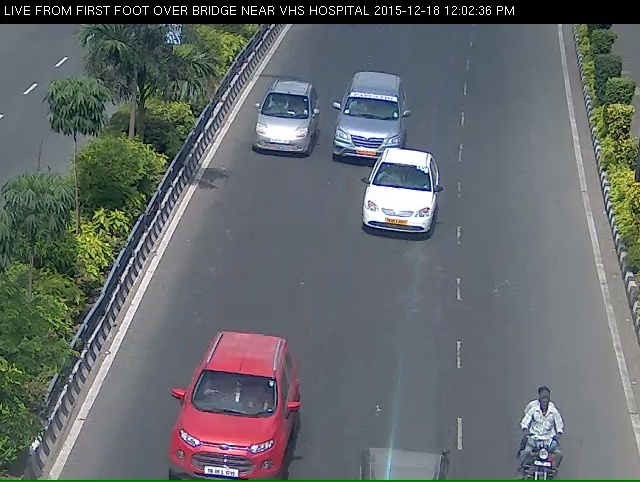Car: (165, 364, 291, 476), (363, 158, 434, 259), (340, 75, 402, 168), (251, 92, 312, 162)
Person: (517, 402, 576, 475)
